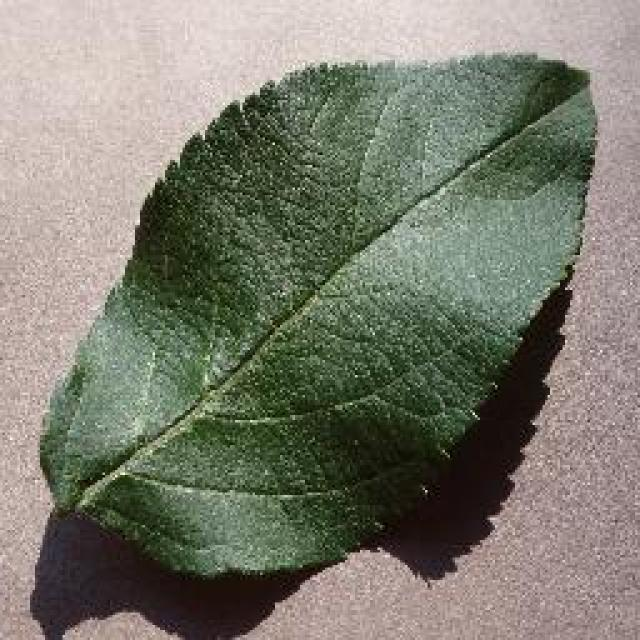apple healthy: (35, 48, 600, 582)
